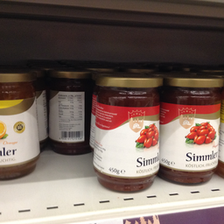jam: (93, 74, 164, 193), (159, 76, 224, 186), (1, 71, 40, 181), (47, 69, 93, 156)
